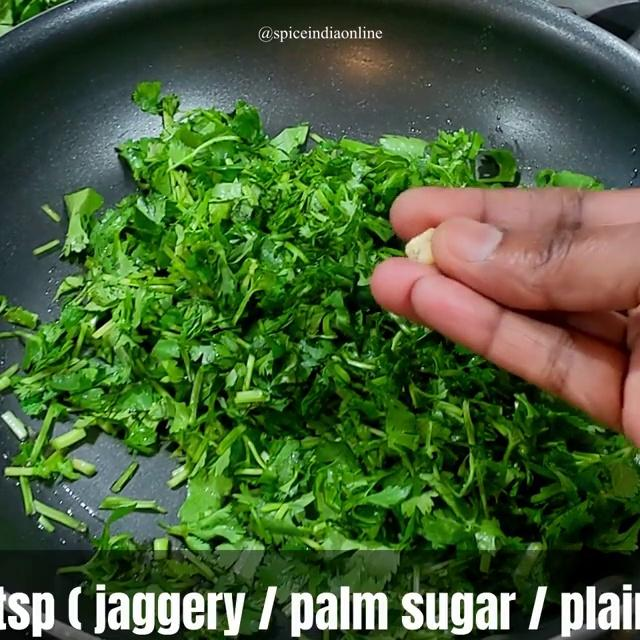cilantro: (112, 142, 366, 537)
